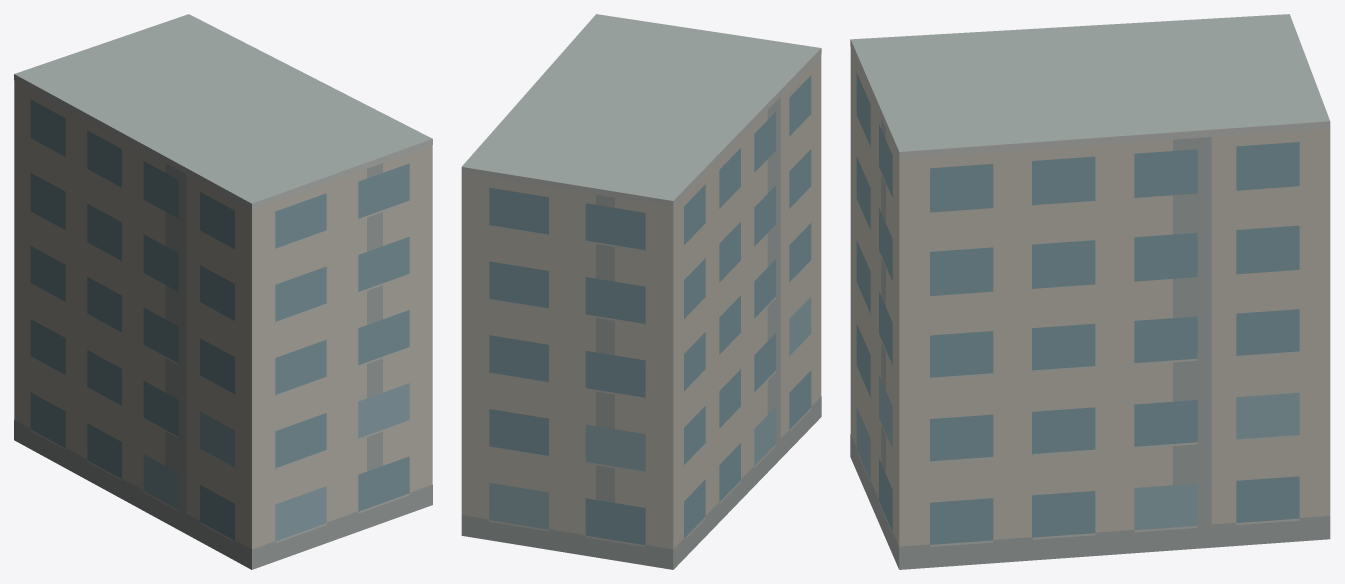
File: survey-upis-32889376.glb
3 views of the same model, side by side, from view 1: azimuth 30°, elevation 25°; view 2: azimuth 150°, elevation 25°; view 3: azimuth 270°, elevation 25° (orthographic). The views are drawn at different scales.
Visible parts, largest first — view 1: survey-upis-32889376.tmp; view 2: survey-upis-32889376.tmp; view 3: survey-upis-32889376.tmp.
Part boxes in pixels (x1=…): survey-upis-32889376.tmp: x1=14, y1=14, x2=432, y2=569; survey-upis-32889376.tmp: x1=461, y1=14, x2=821, y2=569; survey-upis-32889376.tmp: x1=850, y1=14, x2=1330, y2=569.
Size of the model in its own units: 10.02 by 14.15 by 14.73.
